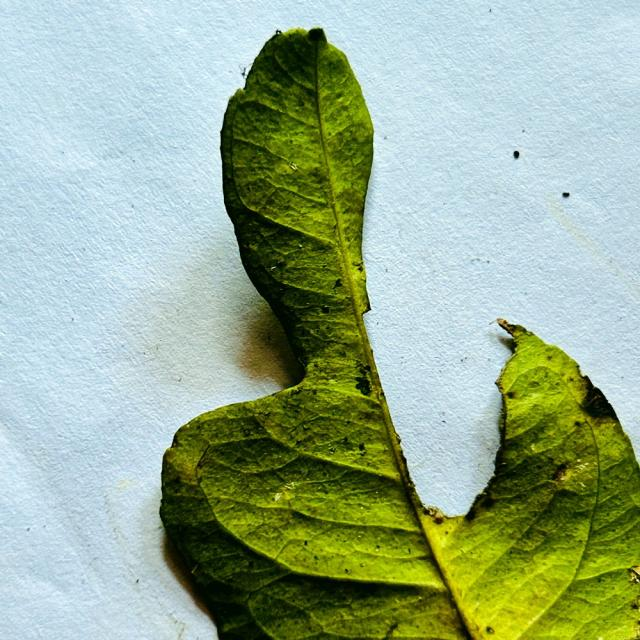Deficiency Leaf: (362, 101, 510, 514), (155, 203, 303, 454), (204, 120, 229, 214)
Lemon: (160, 28, 639, 639)
